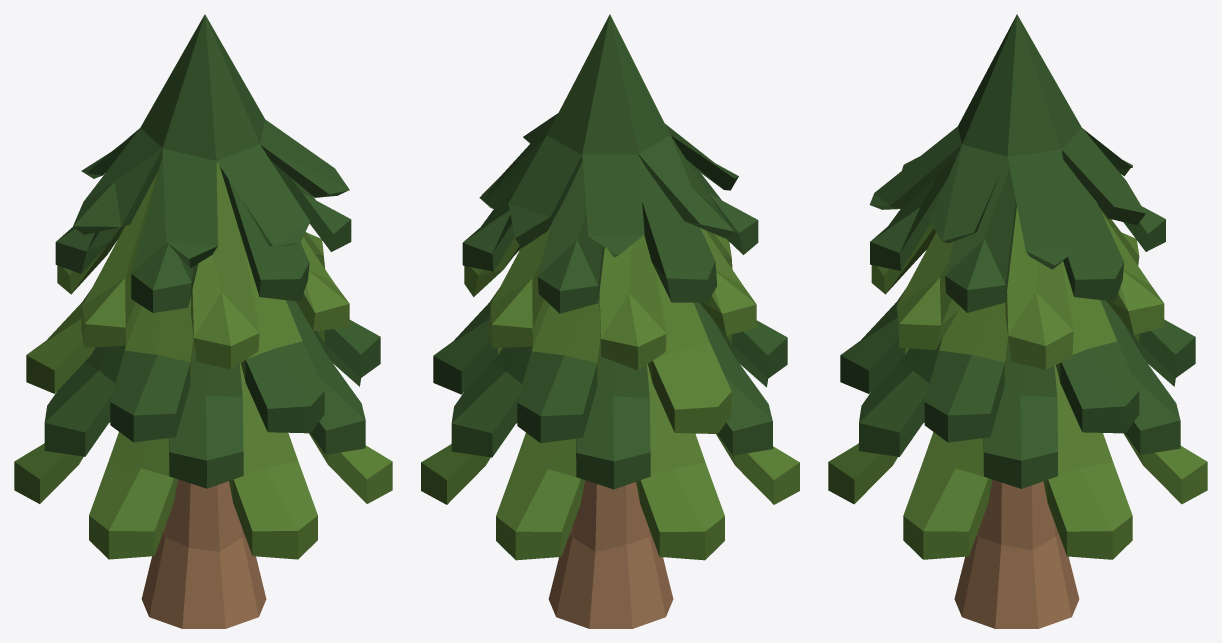
The model's file is TreePine.gltf.
3 renders of one model, left to right at view 1: azimuth 30°, elevation 25°; view 2: azimuth 150°, elevation 25°; view 3: azimuth 270°, elevation 25°, orthographic.
Parts seen in each view (by area): view 1: TreePine_glb; view 2: TreePine_glb; view 3: TreePine_glb.
Boxes of the visible parts, x1,y1,x2,y2 form: TreePine_glb: [14, 14, 392, 628]; TreePine_glb: [421, 14, 799, 628]; TreePine_glb: [828, 14, 1207, 628].
Size of what is drawn, in the model's own units: 3.26 by 5.71 by 3.32.
Materials: 1 (1 with a texture image).
